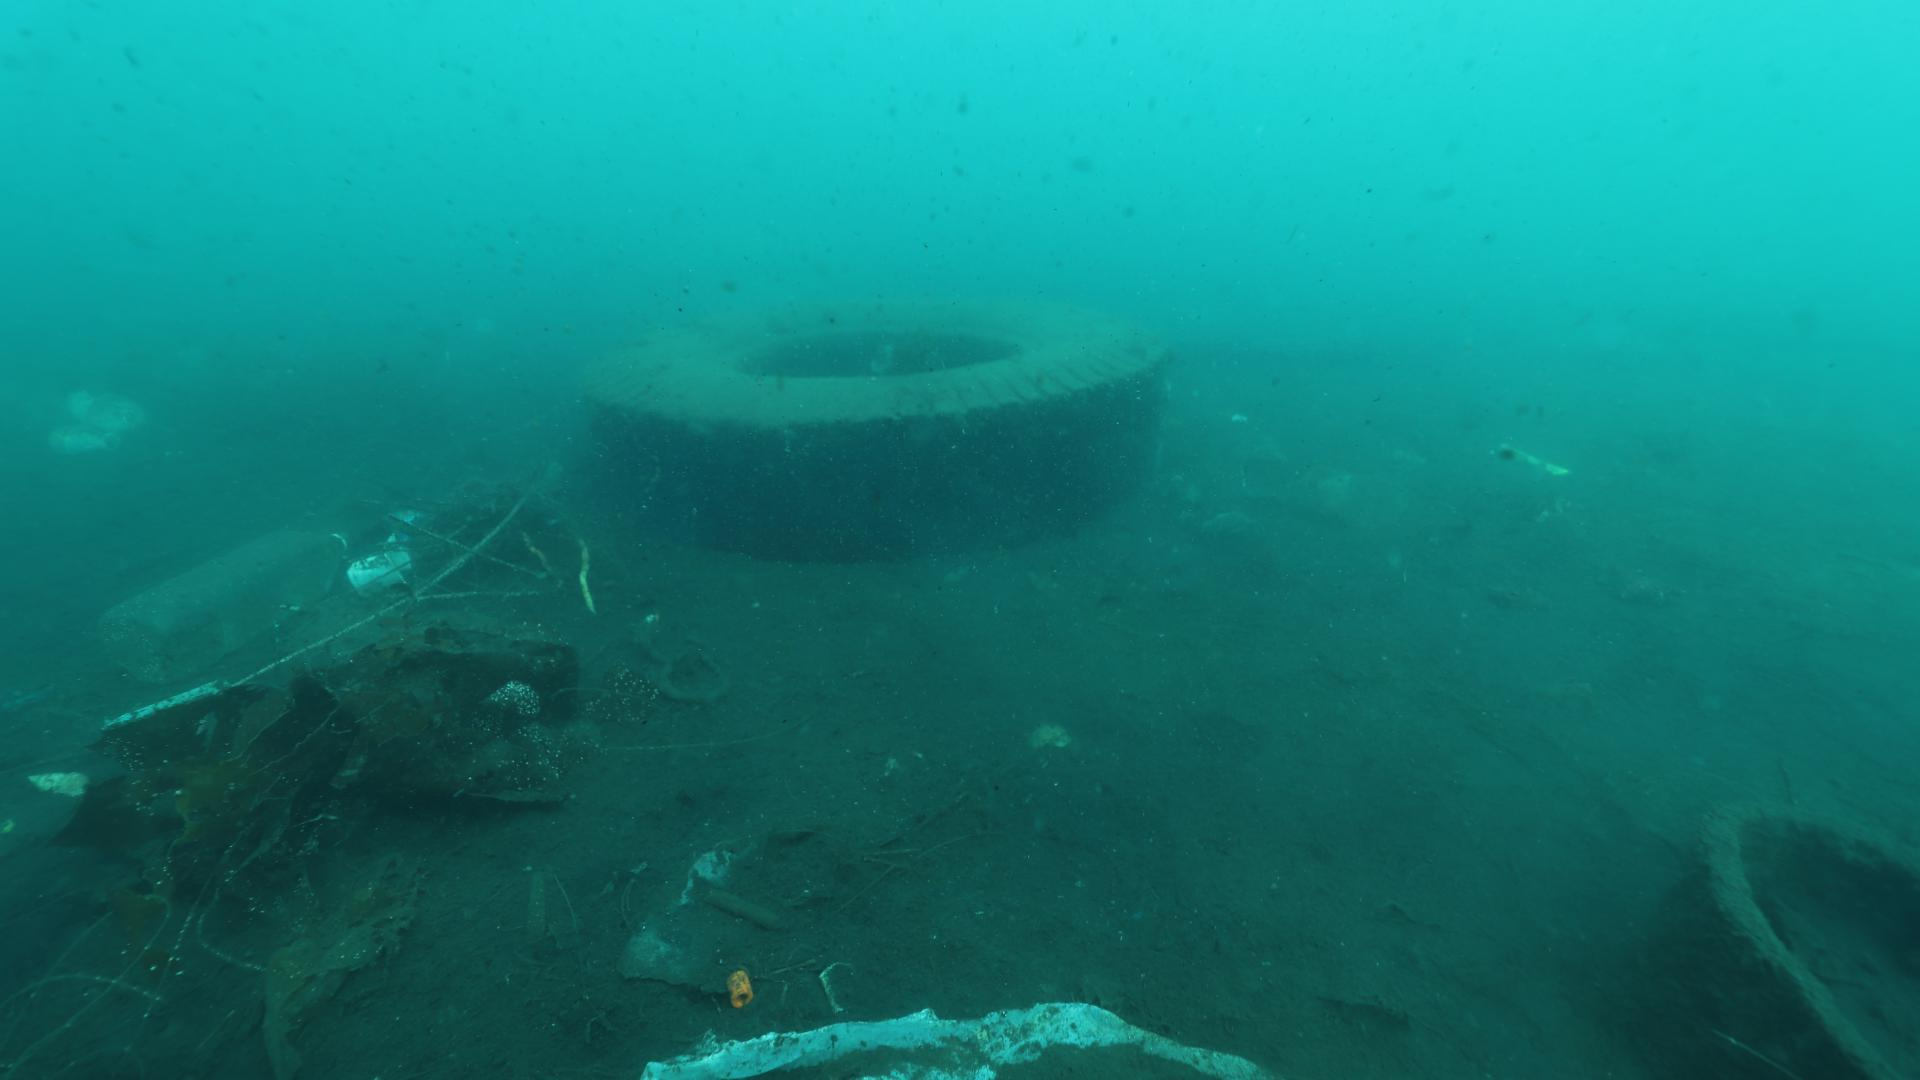tire: (576, 274, 1162, 551)
